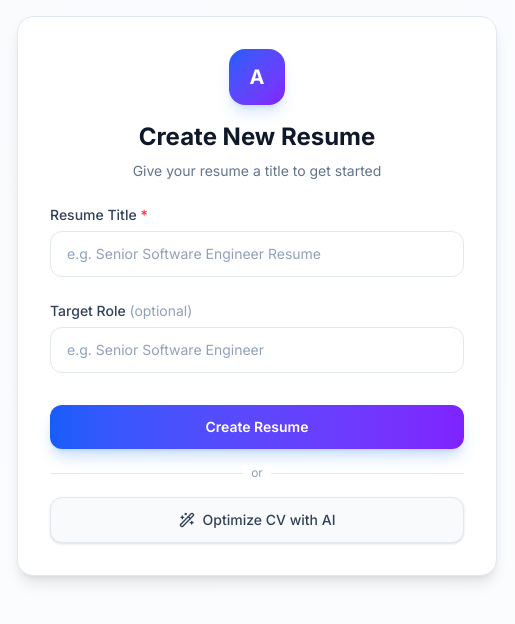
Test case: Create resume form — validation › shows field error for empty title
Click the button "Create Resume" at (257, 427), box x1=50 y1=405 x2=464 y2=449
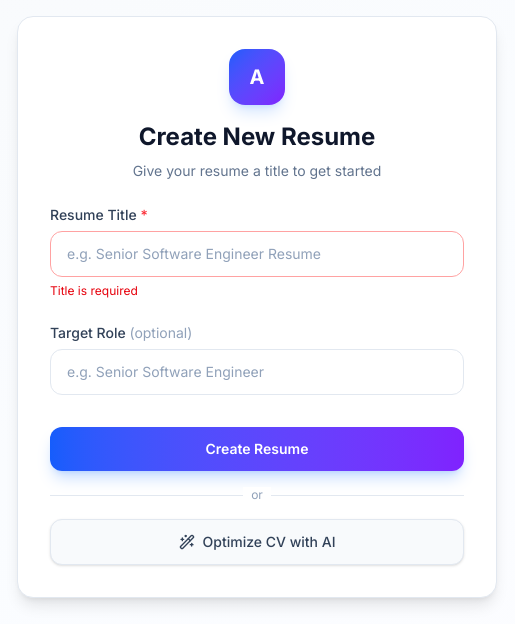
Expected: the text "Title is required" is shown, x1=50 y1=283 x2=138 y2=298
